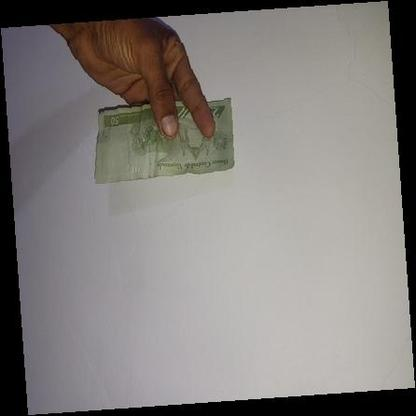fifty-back-vef: (93, 96, 235, 186)
